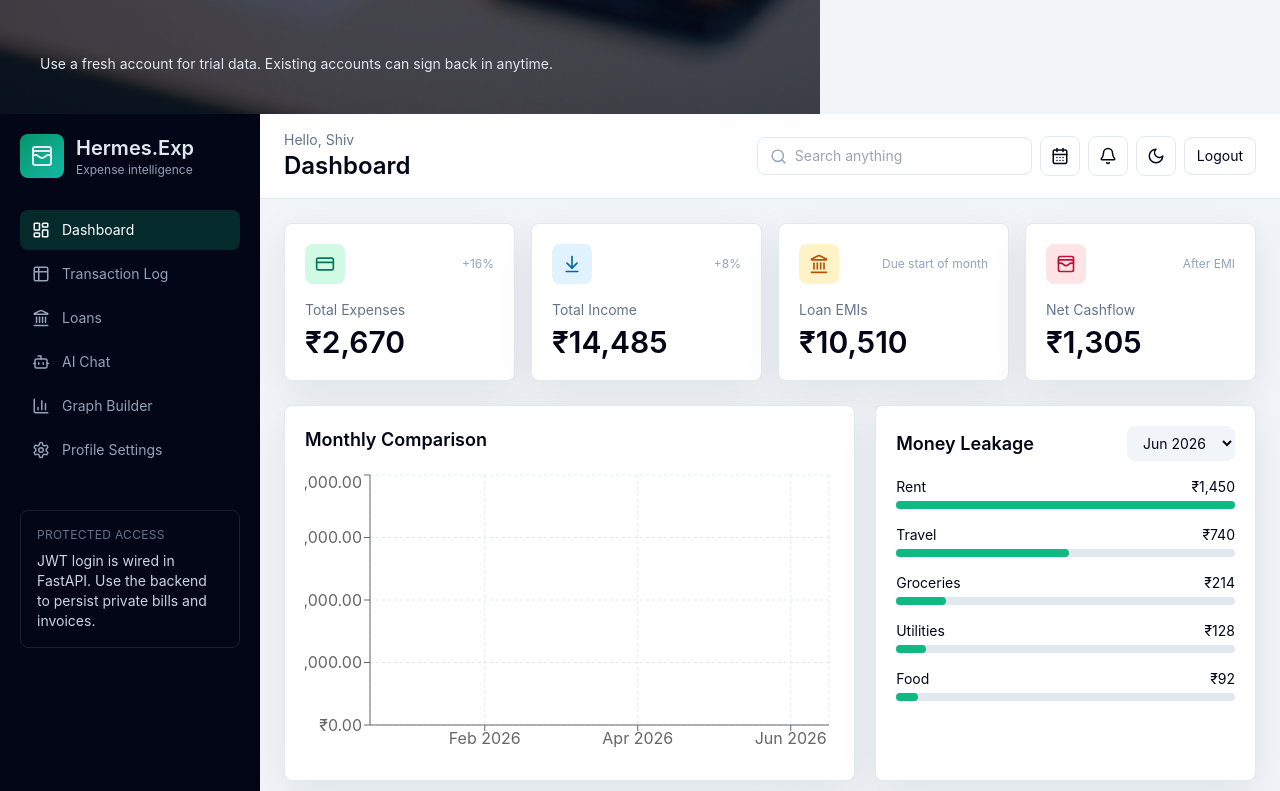
Test case: Transaction Log › adds and removes income sources from profile settings
(page scrolled)
Click the button "Profile Settings". click: (130,450)
box: left=20, top=430, right=240, bottom=470
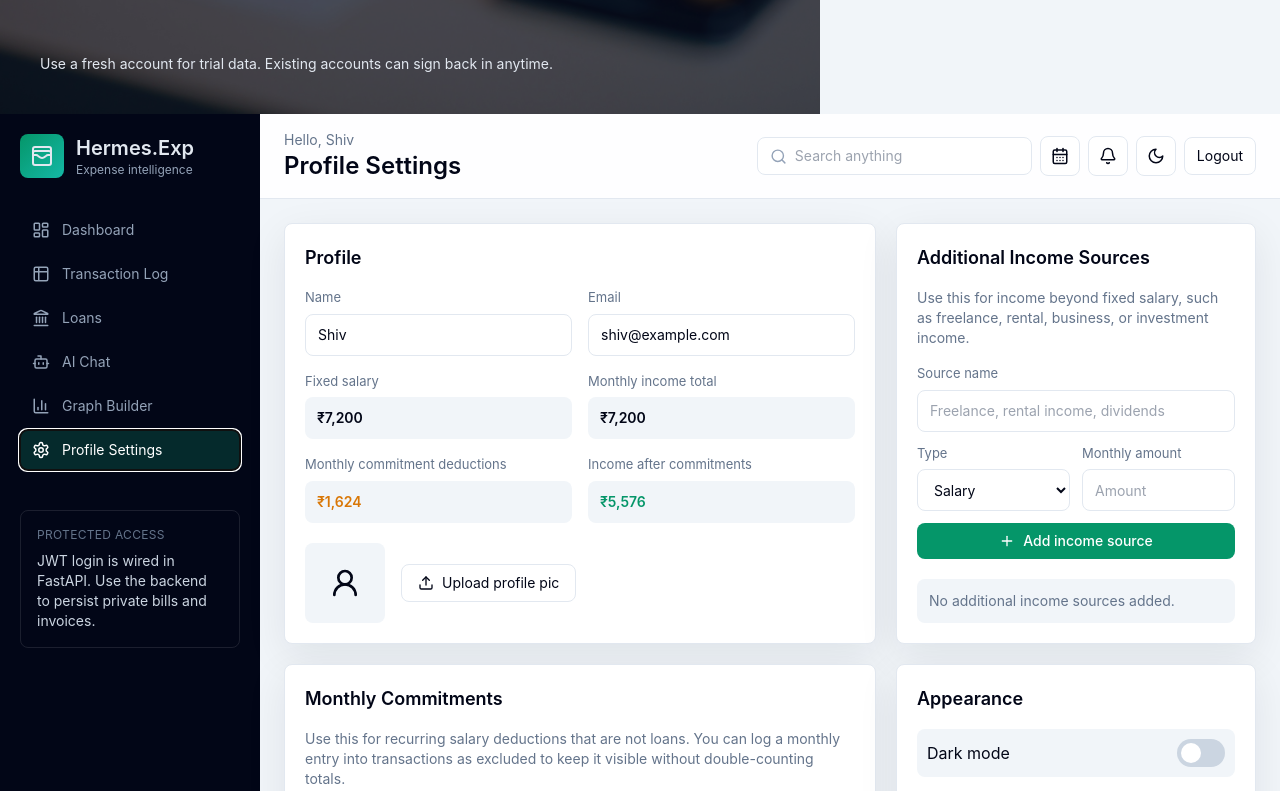
Expected: the heading "Additional Income Sources" is shown, left=917, top=244, right=1150, bottom=272
Expected: the text "₹7,200" is shown 2 times, left=305, top=397, right=572, bottom=439; left=588, top=397, right=855, bottom=439
Type "Freelance Design" into the field with placeholder "Freelance, rental income, dividends". click: (1076,410)
box: left=917, top=390, right=1235, bottom=432
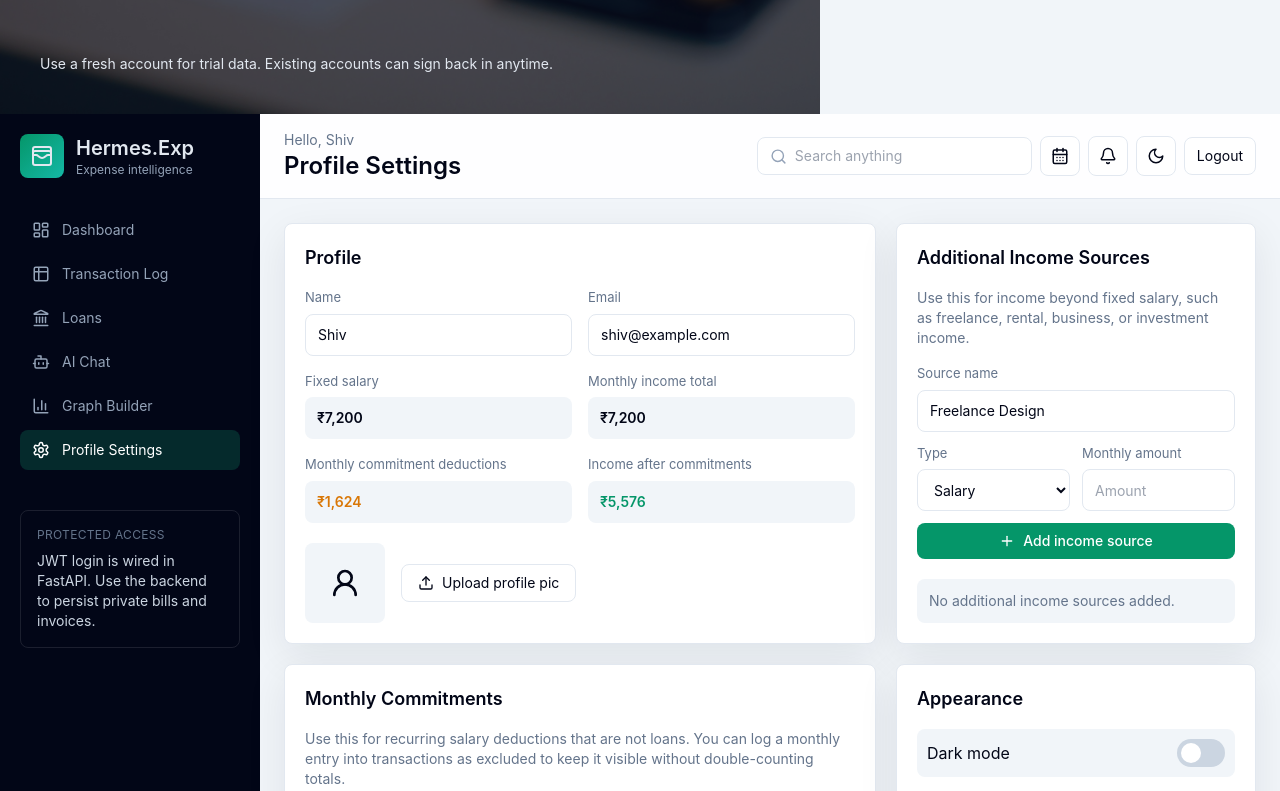
Select "Freelance" in the dropdown showing "Salary". click: (994,490)
box: left=917, top=469, right=1070, bottom=511
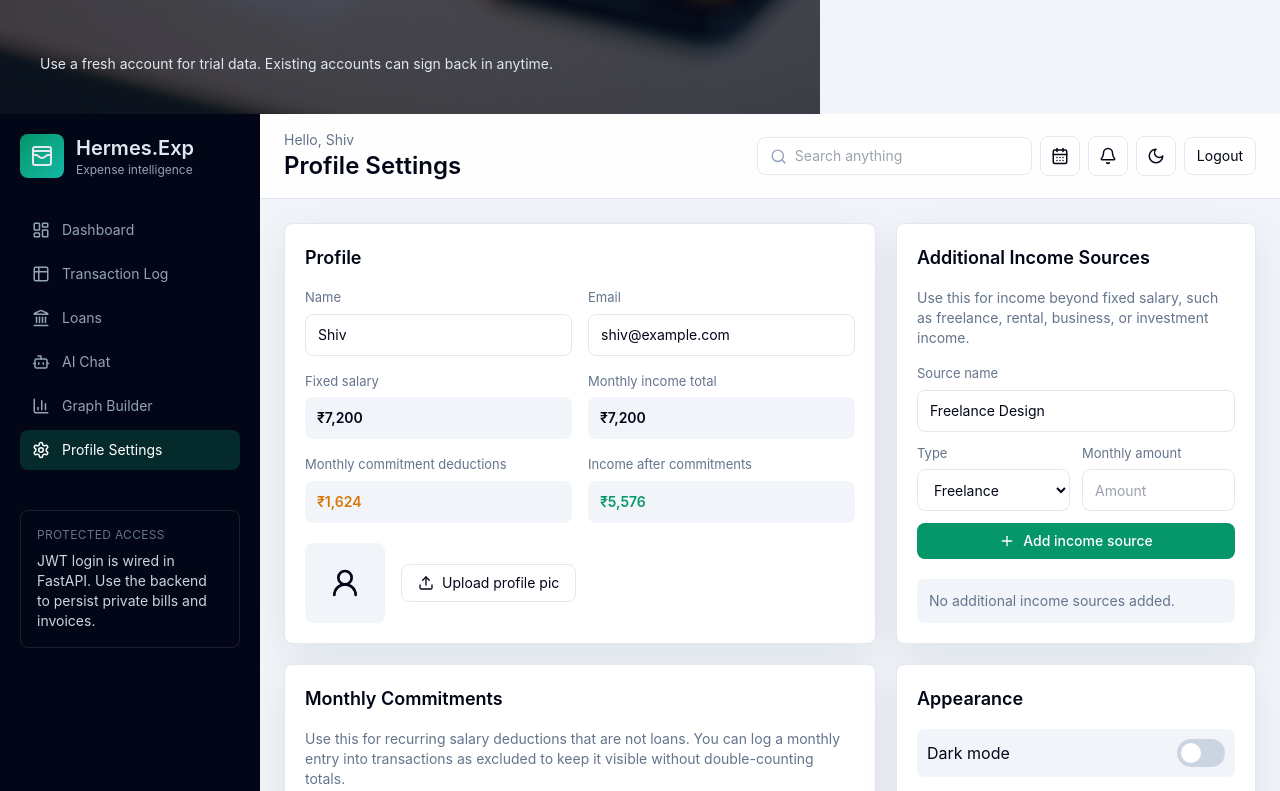
Type "5000" into the number field with placeholder "Amount". click: (1158,490)
box: left=1082, top=469, right=1235, bottom=511
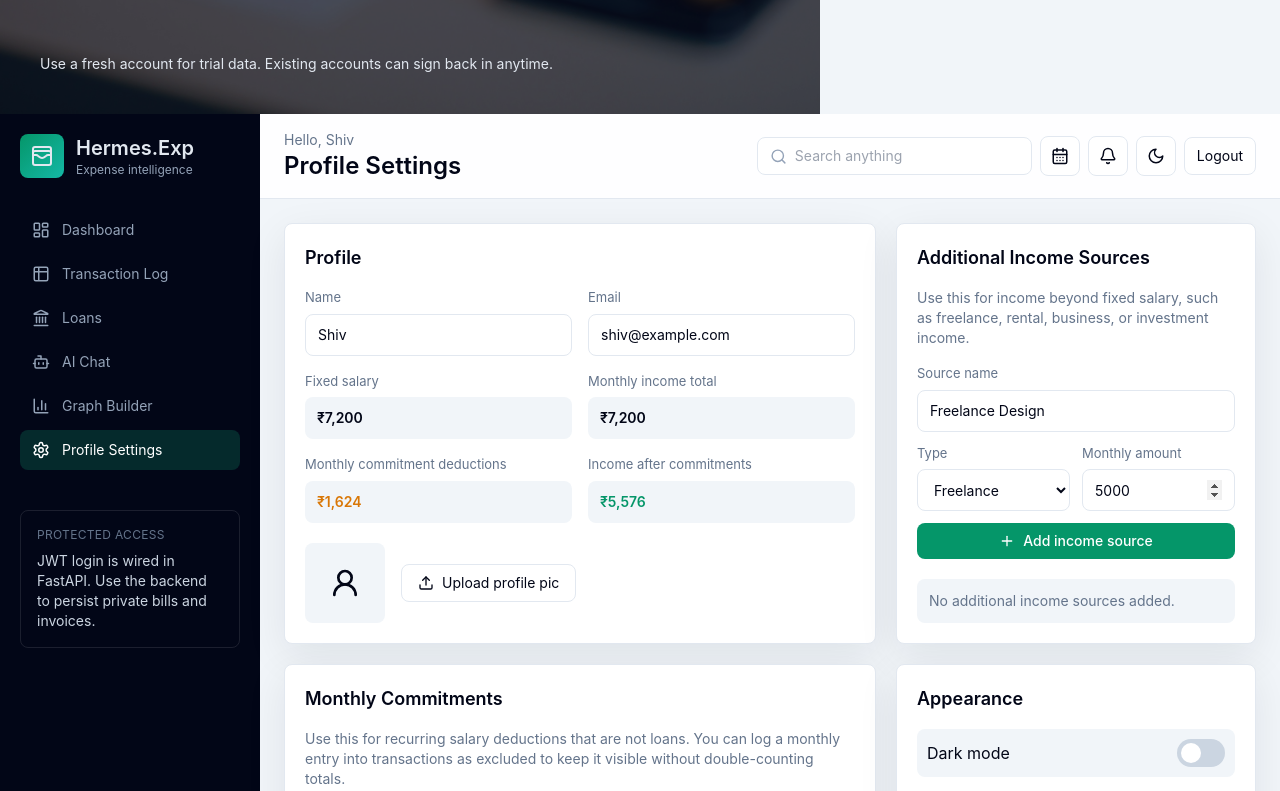
Click the button "Add income source". click: (1076,541)
box: left=917, top=523, right=1235, bottom=559
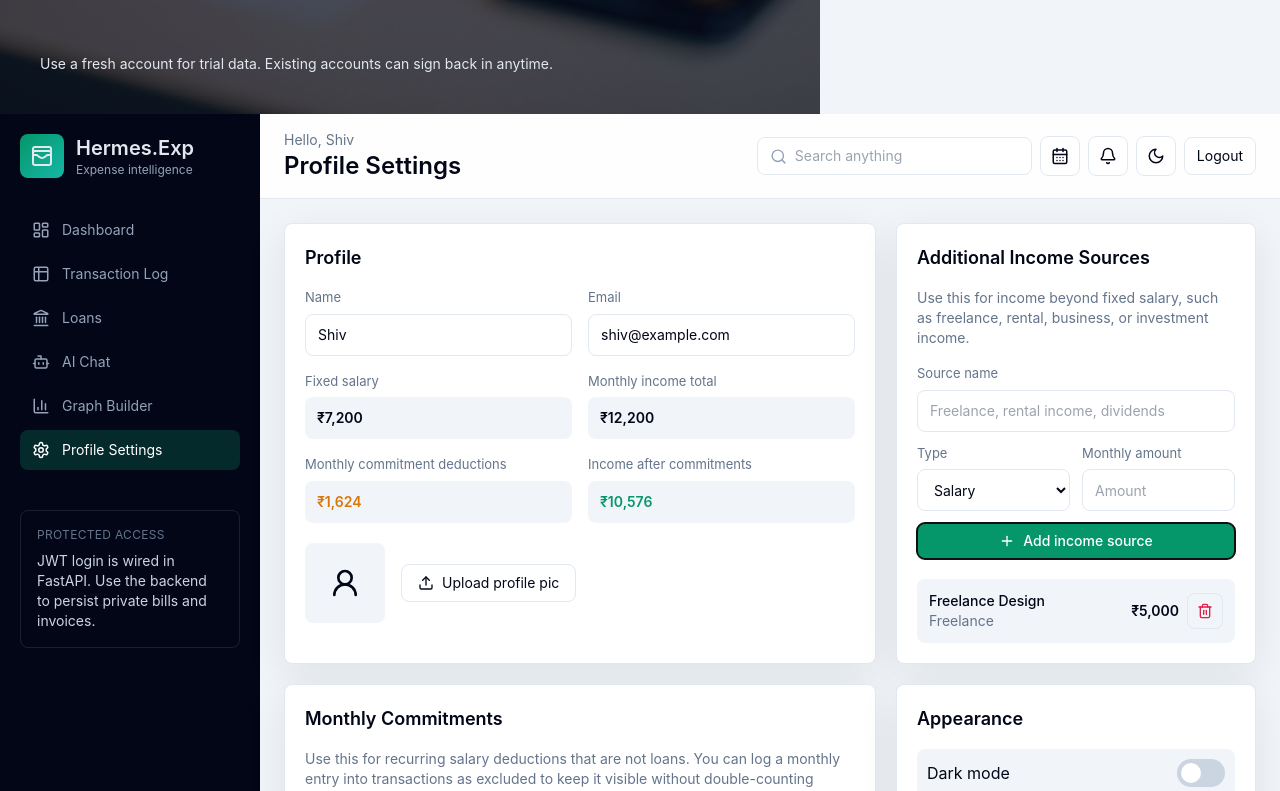
Expected: the text "Freelance Design" is shown, left=929, top=591, right=1045, bottom=611
Expected: the text "₹12,200" is shown, left=588, top=397, right=855, bottom=439
Click the button named "Delete Freelance Design". click: (1205,611)
box: left=1187, top=593, right=1223, bottom=629
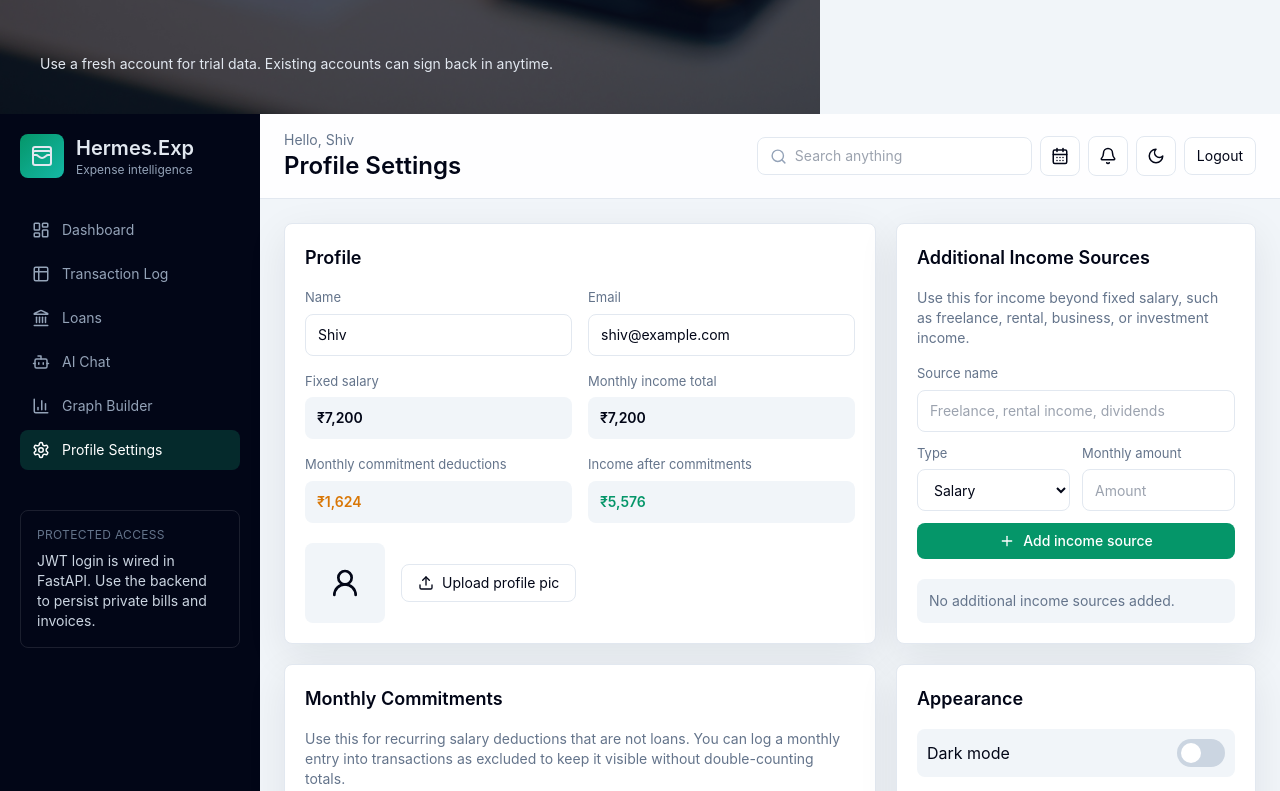
Expected: the text "Freelance Design" is gone
Expected: the text "₹7,200" is shown 2 times, left=305, top=397, right=572, bottom=439; left=588, top=397, right=855, bottom=439
